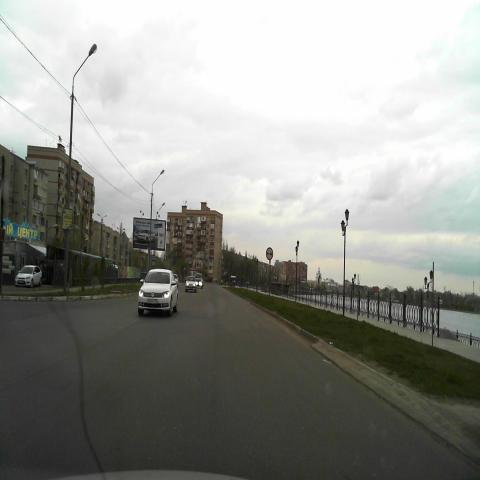3_20: (265, 247, 273, 262)
